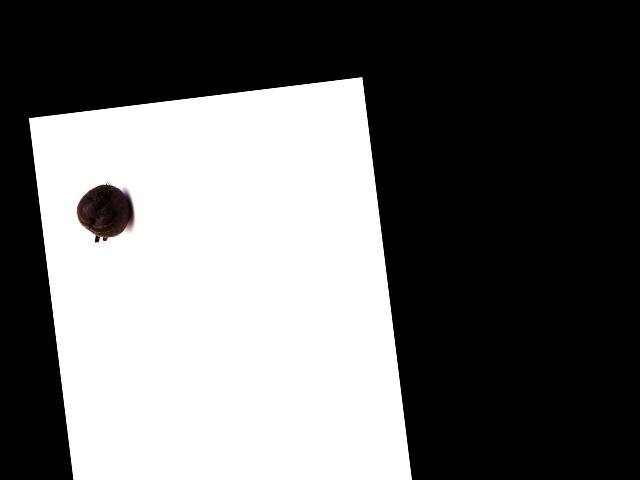beet: (73, 181, 134, 243)
